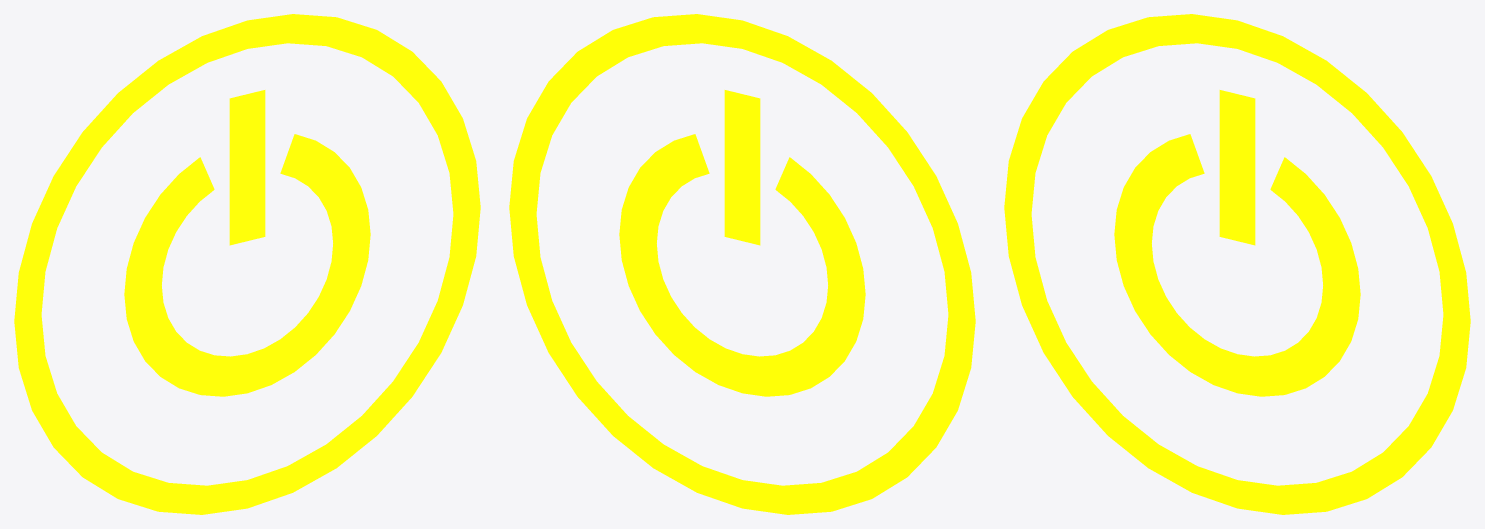
The model's file is mdl_zesty_poweron.gltf.
3 renders of one model, left to right at view 1: azimuth 30°, elevation 25°; view 2: azimuth 150°, elevation 25°; view 3: azimuth 330°, elevation 25°, orthographic.
Parts seen in each view (by area): view 1: mdl_zesty_poweron; view 2: mdl_zesty_poweron; view 3: mdl_zesty_poweron.
Part boxes in pixels (x1,y1,x2,y2): mdl_zesty_poweron: (14, 14, 480, 514); mdl_zesty_poweron: (509, 14, 975, 514); mdl_zesty_poweron: (1004, 14, 1470, 514).
Size of the model in its own units: 0.3387 by 0.3387 by 2.02e-08.
